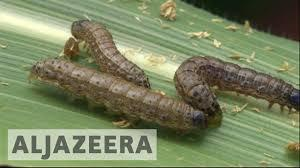fallarmy_worm: (25, 55, 207, 138), (169, 51, 300, 118), (63, 21, 150, 87)
